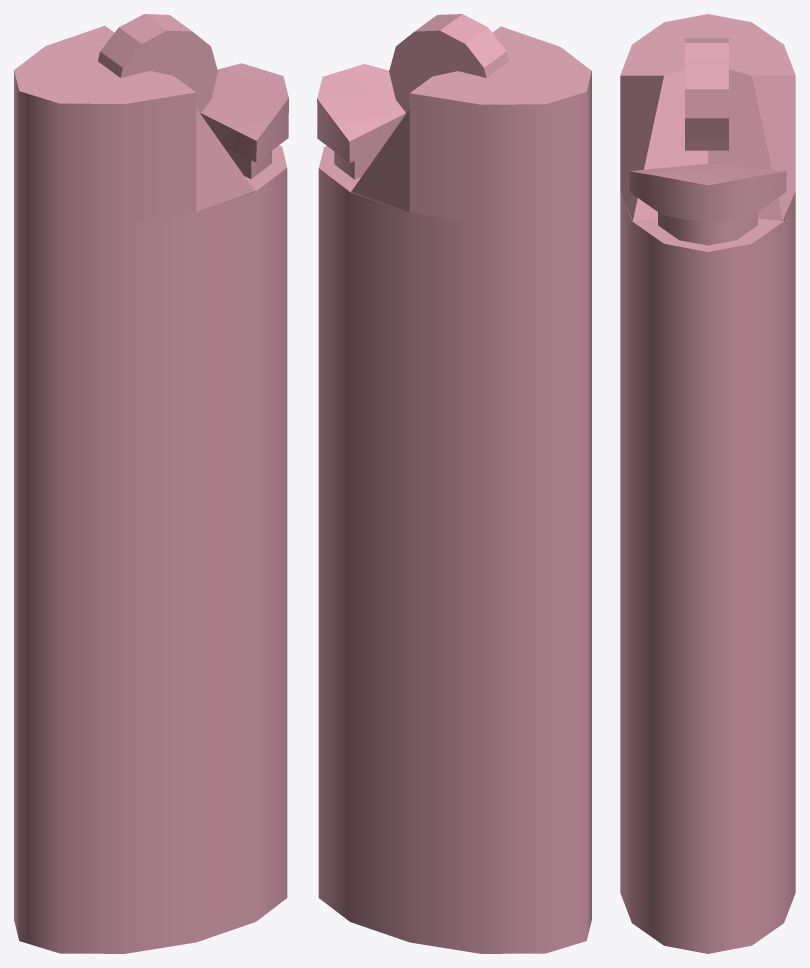
Rendered from Lighter.fbx.
3 renders of one model, left to right at view 1: azimuth 30°, elevation 25°; view 2: azimuth 150°, elevation 25°; view 3: azimuth 270°, elevation 25°, orthographic. The views are drawn at different scales.
Parts seen in each view (by area): view 1: Lighter; view 2: Lighter; view 3: Lighter.
Part boxes in pixels (bbox=[...]): Lighter: bbox=[14, 14, 288, 953]; Lighter: bbox=[317, 14, 591, 953]; Lighter: bbox=[620, 14, 795, 953].
Size of the model in its own units: 2.95 by 9.46 by 1.77.
